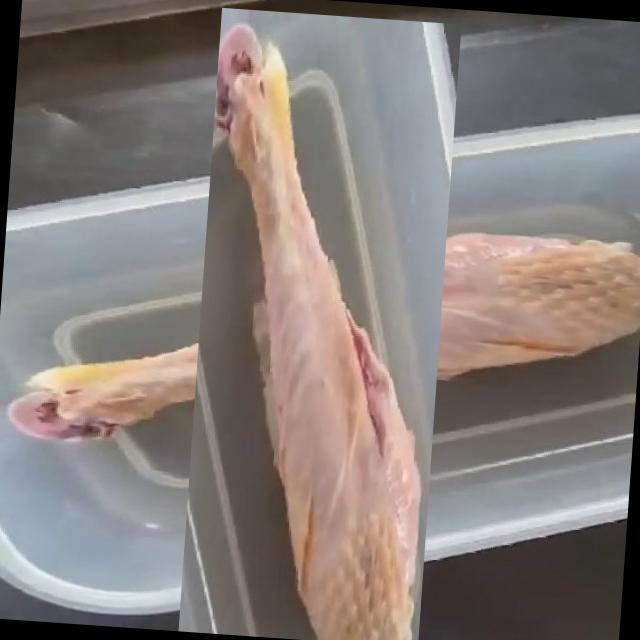chicken: (84, 100, 554, 568)
